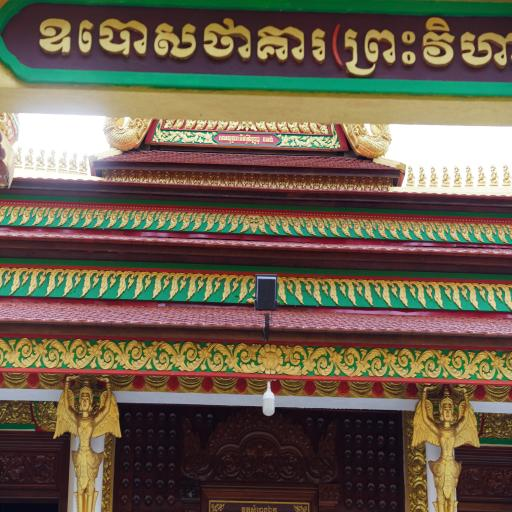hoa: (256, 342, 284, 382)
than: (46, 351, 122, 512), (408, 369, 485, 512)
